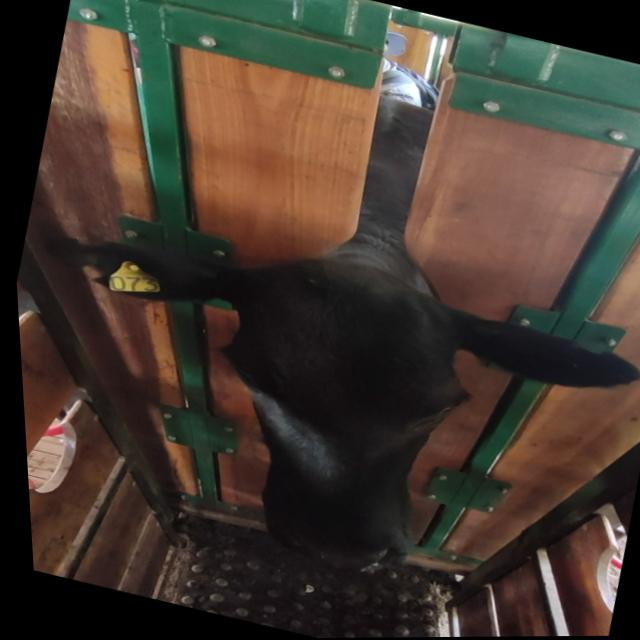cowFace: (166, 236, 495, 596)
